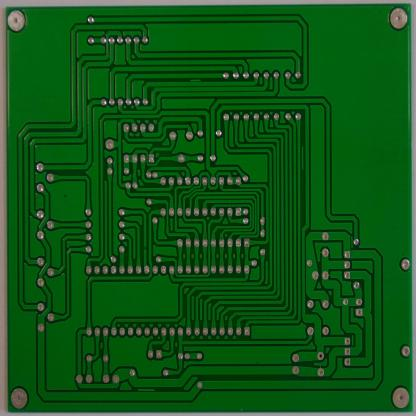spurious_copper: (300, 144, 305, 172), (136, 387, 155, 393), (188, 77, 202, 83), (349, 333, 355, 347), (350, 233, 354, 250)
